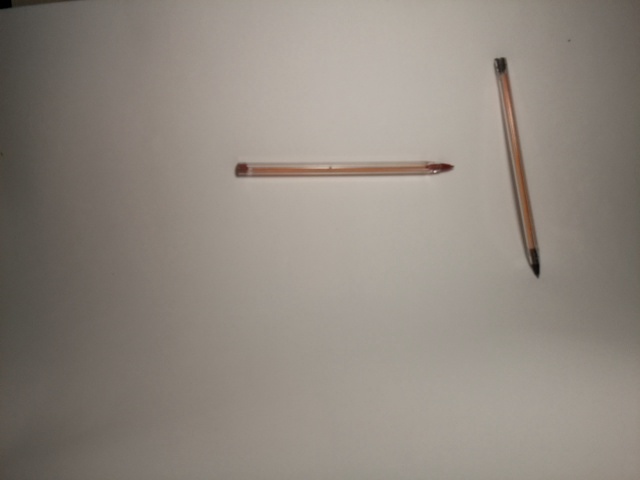Caneta: (482, 54, 552, 282), (234, 156, 456, 183)
